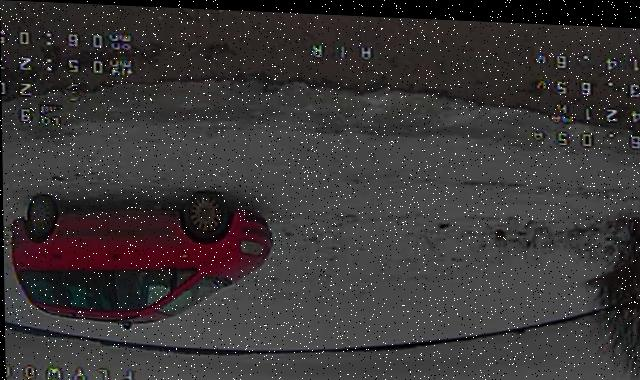car: (9, 187, 275, 328)
